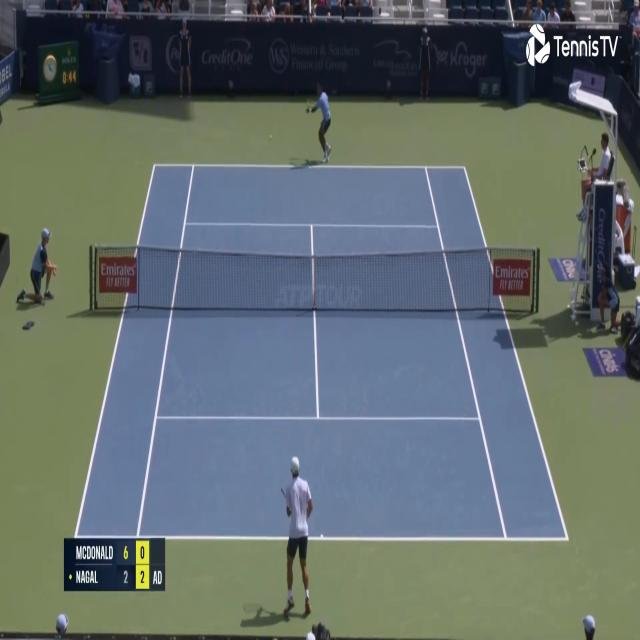tennis-player: (279, 453, 314, 622), (305, 79, 334, 163)
